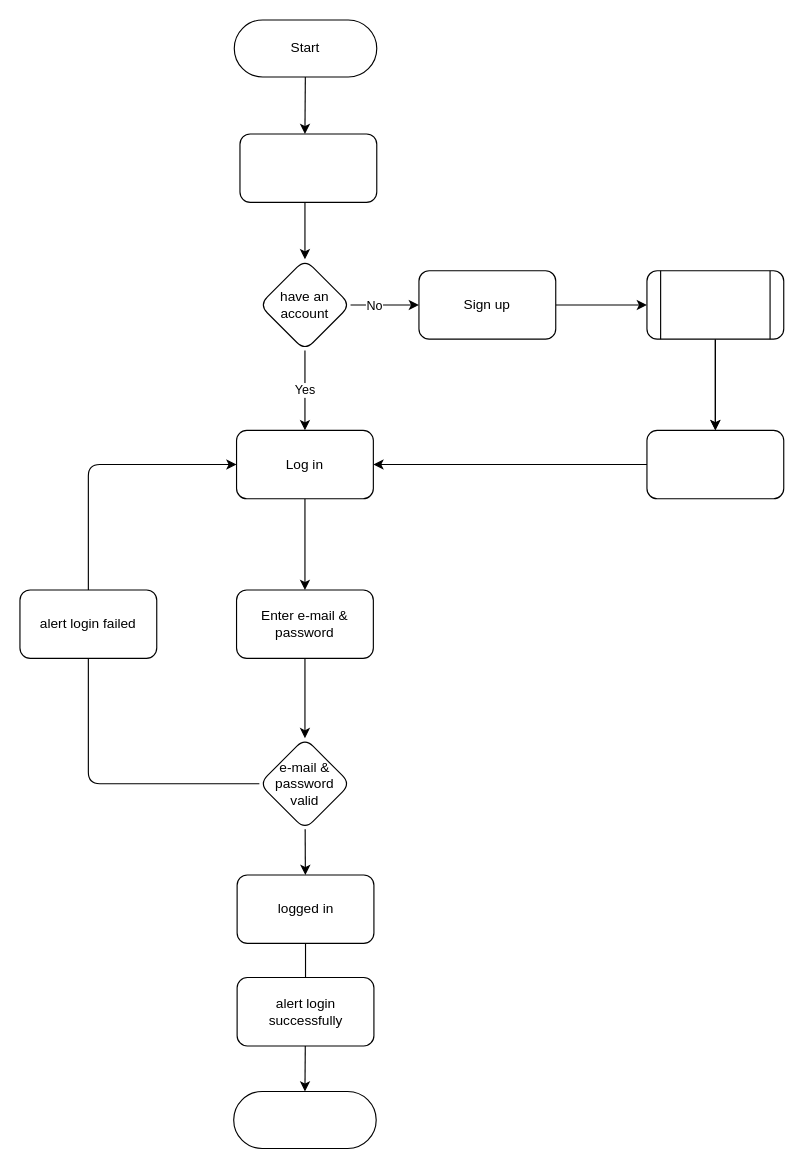
This 804x1169 diagram has some shape labels left out. The shapes that lost their labels are listed below. From the top down, each one's centre as x and y in pixels, then its label:
[308,167]: Enter the website
[715,304]: Registration
[715,464]: Submit
[304,1119]: Homepage
